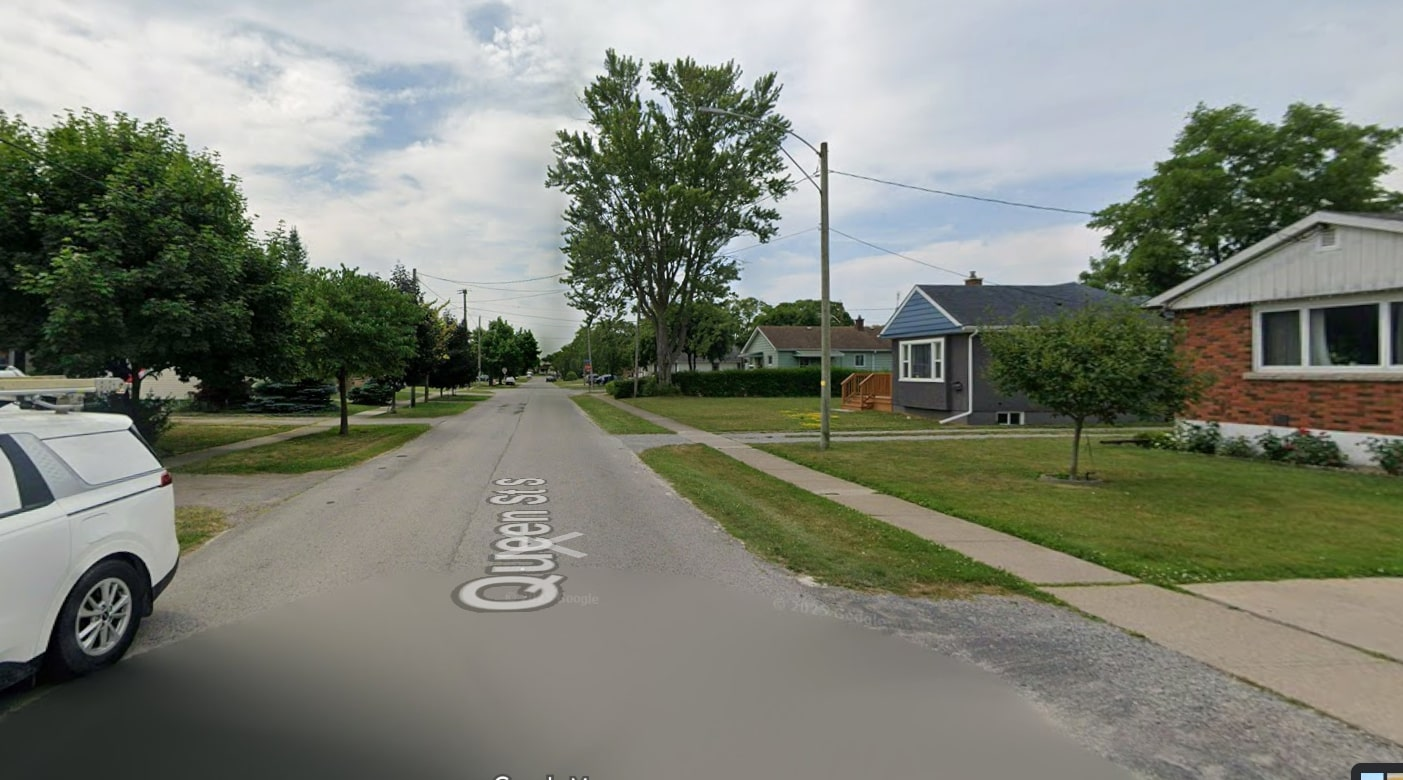cracks: (423, 472, 501, 568), (488, 399, 533, 468)
